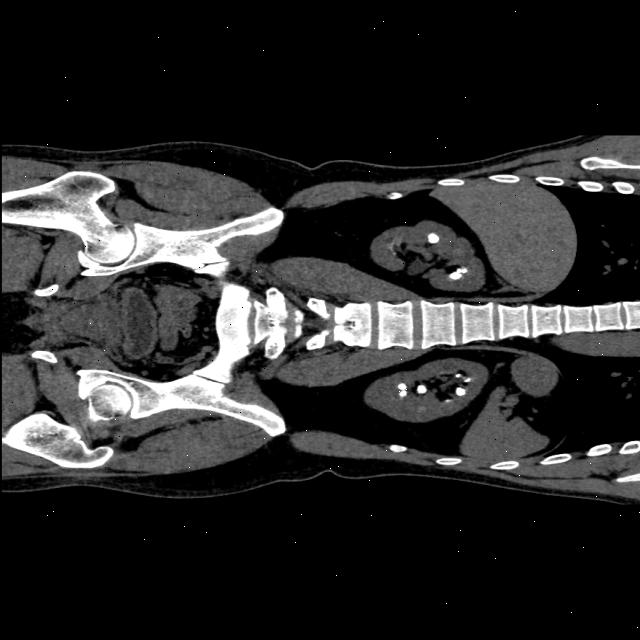kidneystone: (449, 268, 467, 280), (414, 382, 425, 395), (397, 382, 405, 398), (454, 386, 466, 396), (427, 232, 438, 242)
